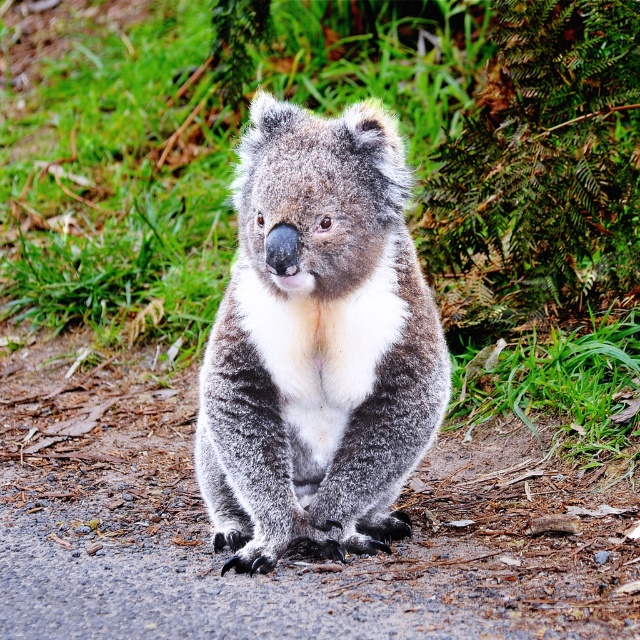Koala: (185, 82, 462, 578)
